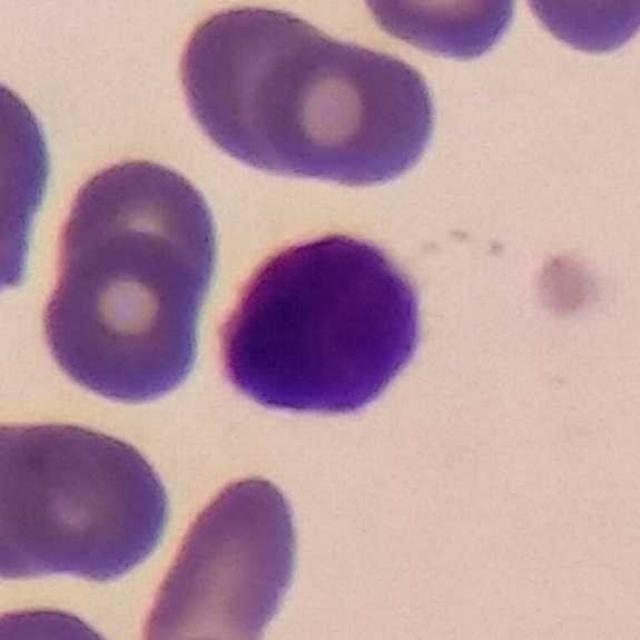Lymphocyte: (204, 216, 441, 434), (0, 78, 50, 302)
Platelets: (524, 238, 615, 330)
RBC: (242, 19, 445, 196), (32, 226, 218, 415), (1, 410, 179, 591), (45, 150, 227, 327), (169, 0, 344, 184), (132, 467, 310, 640), (351, 0, 525, 66), (0, 408, 63, 587), (506, 0, 639, 63), (0, 595, 135, 640)
